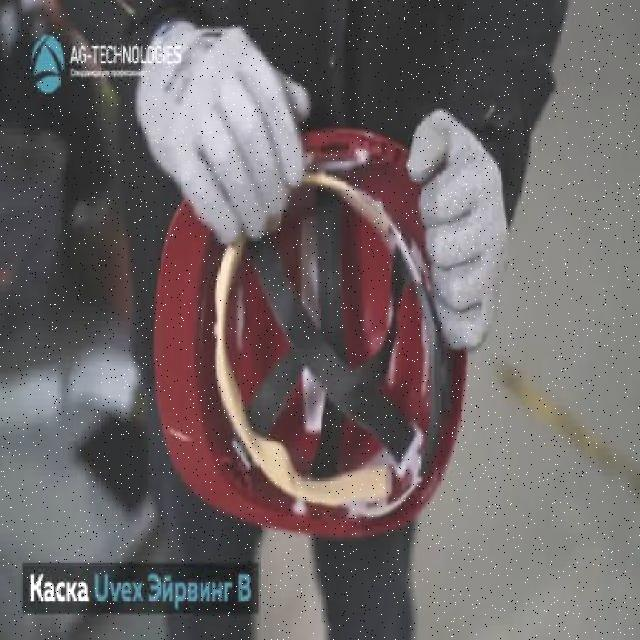Gloves: (142, 14, 312, 248), (405, 102, 510, 358)
Helmet: (152, 123, 468, 542)
